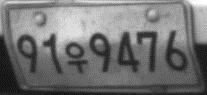1: (41, 32, 63, 75)
4: (116, 31, 141, 74)
6: (164, 29, 189, 72)
7: (136, 29, 158, 74)
9: (90, 32, 112, 73), (16, 33, 38, 73)
우: (64, 41, 88, 75)
